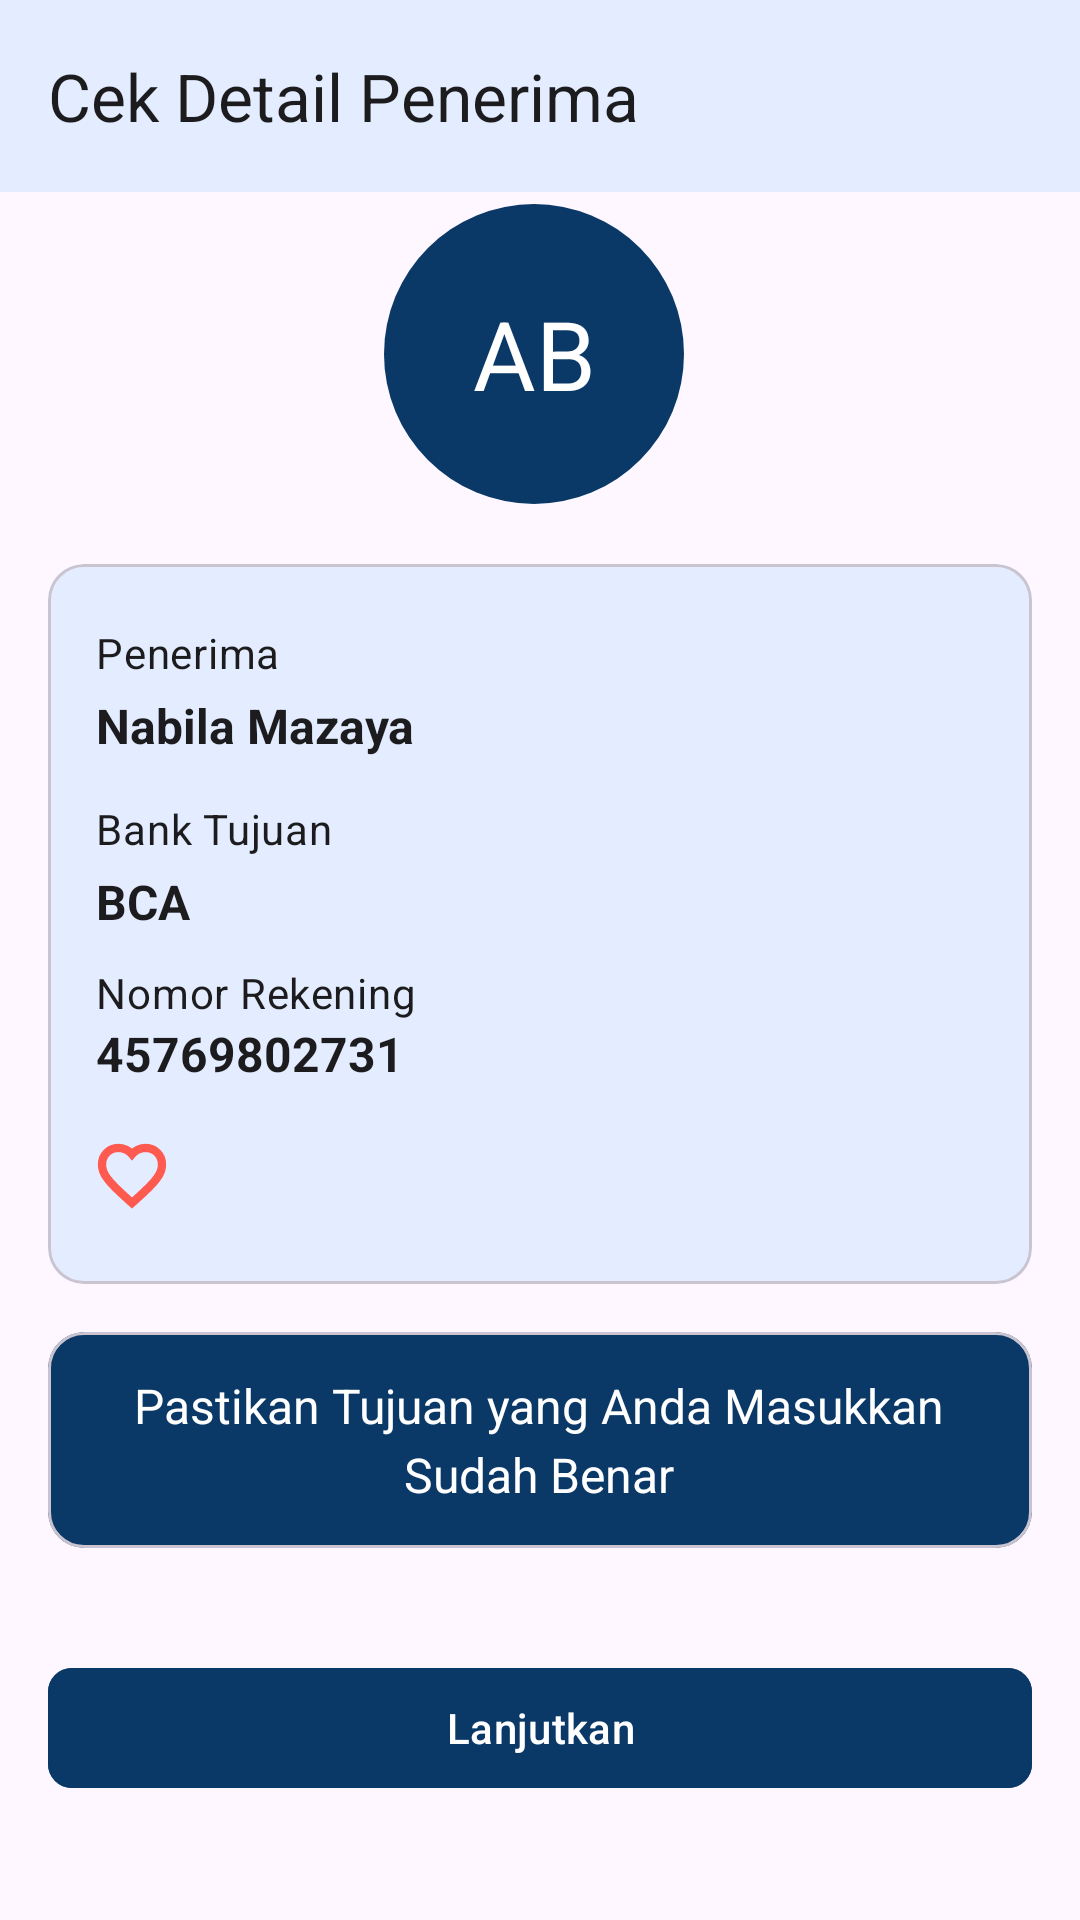

Where to tap for icons on this 1080x1920 app screen, as [x,y]:
heart: [131,1176]
